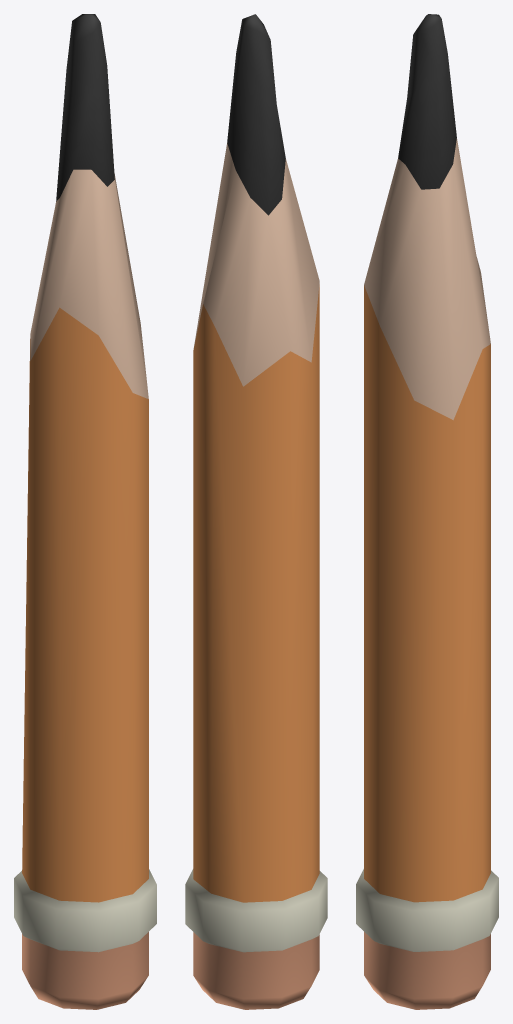
Rendered from Pencil.fbx.
The picture shows the model from 3 angles, left to right: view 1: azimuth 30°, elevation 25°; view 2: azimuth 150°, elevation 25°; view 3: azimuth 330°, elevation 25°; orthographic projection.
Parts seen in each view (by area): view 1: Pencil; view 2: Pencil; view 3: Pencil.
Boxes of the visible parts, left/top/right/bottom form: Pencil: left=14, top=14, right=156, bottom=1009; Pencil: left=185, top=14, right=327, bottom=1009; Pencil: left=356, top=14, right=498, bottom=1009.
Bounding box in the file's own units: 6.44 × 48.54 × 6.13.
1 material, 1 textured.
